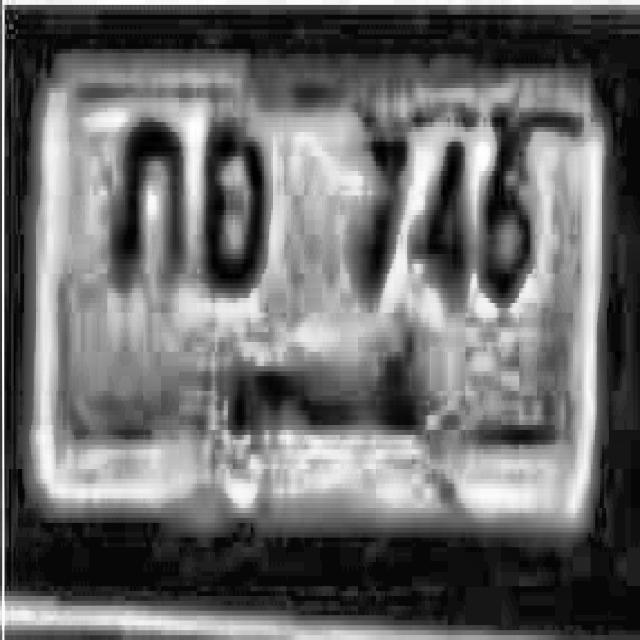license-plate: (16, 38, 621, 585)
